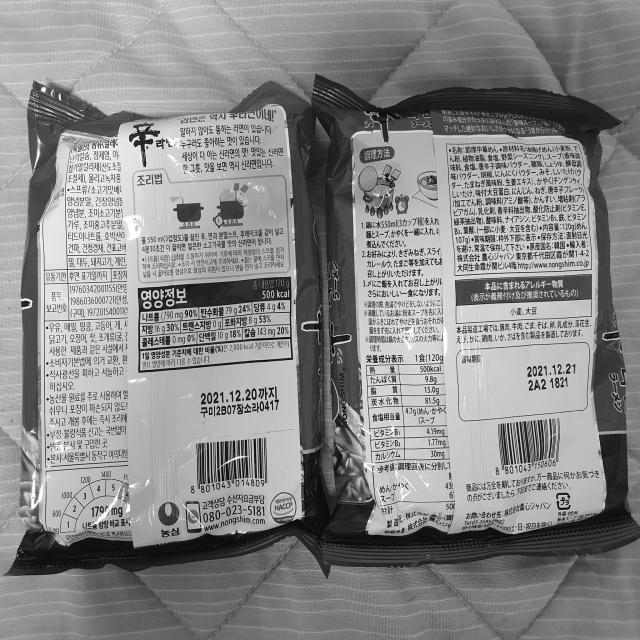Nutrition Label: (129, 270, 300, 377), (358, 343, 460, 477)
